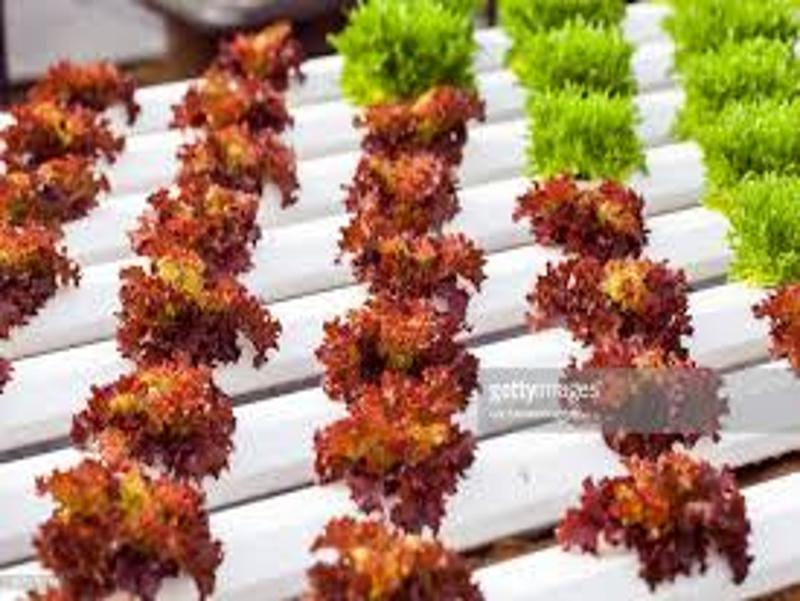green lettuce: (534, 85, 648, 178), (348, 4, 469, 87), (702, 92, 800, 177), (524, 19, 631, 93), (689, 39, 793, 112), (735, 172, 800, 280), (674, 2, 800, 50)
red lettuce: (563, 450, 751, 584), (48, 456, 214, 601), (322, 397, 478, 530), (563, 342, 732, 454), (120, 250, 275, 372), (322, 298, 478, 413), (78, 366, 236, 479), (318, 517, 481, 601), (533, 257, 693, 342), (353, 232, 487, 307), (356, 86, 475, 164), (136, 186, 258, 262), (524, 177, 645, 253), (4, 98, 123, 165), (186, 129, 296, 199), (350, 154, 451, 229), (6, 157, 104, 225), (186, 75, 287, 132), (218, 30, 301, 75), (40, 60, 134, 98)
